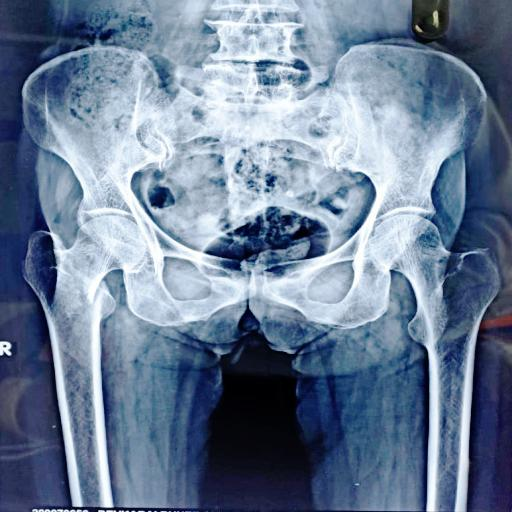neck: (23, 230, 117, 360), (54, 215, 148, 304)
normal: (369, 215, 502, 391)
